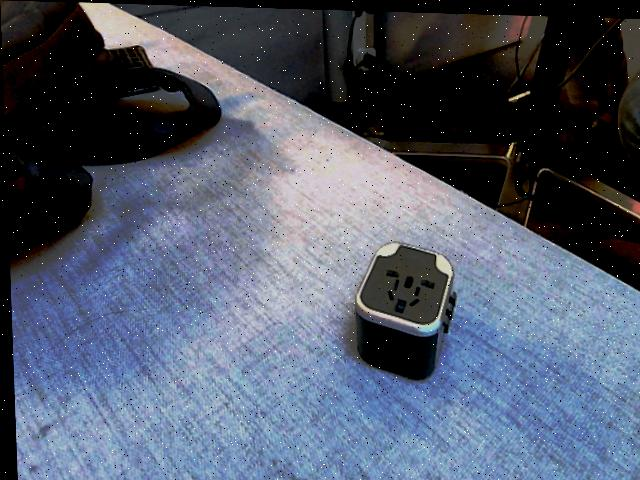adapter: (349, 237, 457, 377)
